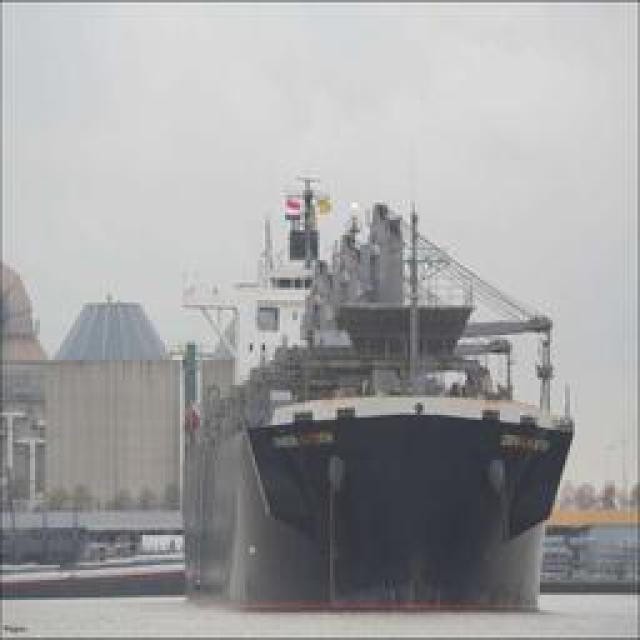Ship: (171, 123, 588, 621)
